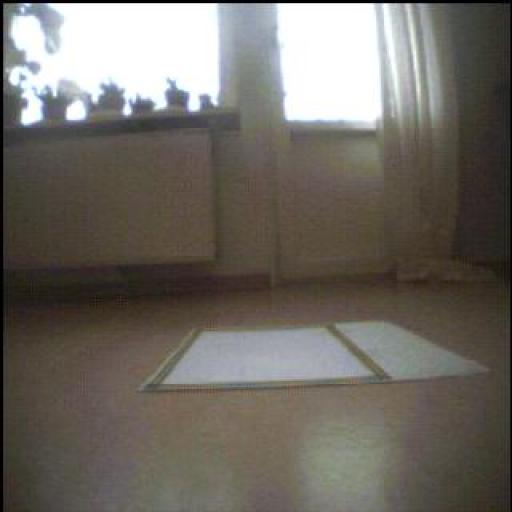Pad: (142, 323, 487, 392)
